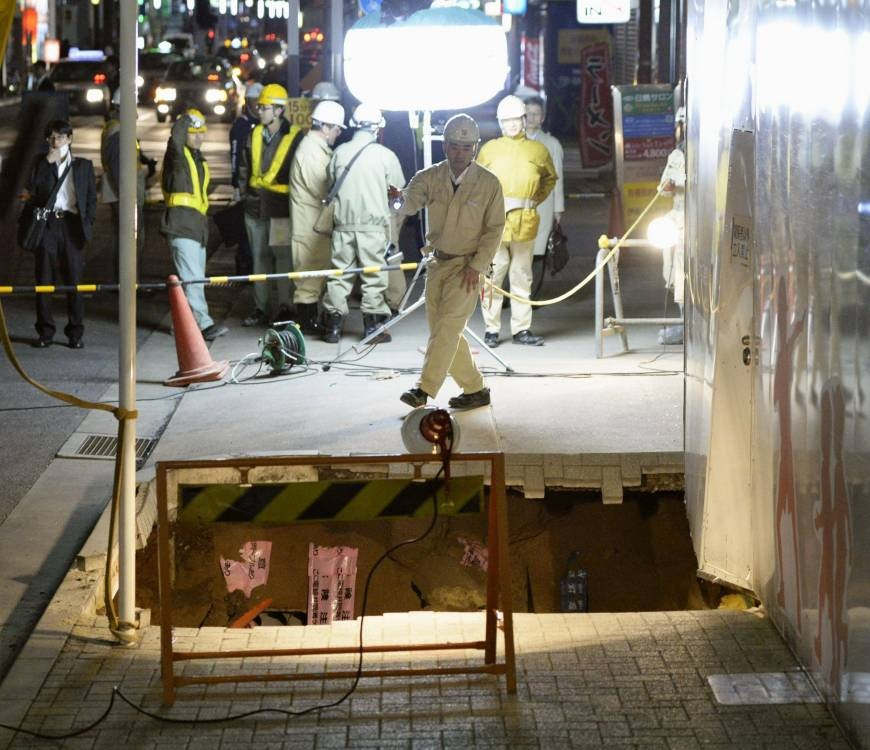none: (41, 118, 75, 154), (521, 95, 545, 130)
white: (440, 113, 481, 168), (309, 99, 347, 145), (496, 93, 524, 137), (349, 103, 384, 138), (242, 83, 264, 115)
yellow: (258, 82, 288, 125), (177, 108, 208, 149)
